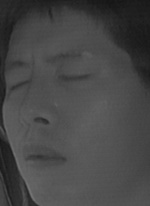blink: (55, 66, 95, 90), (5, 75, 31, 96)
mouth: (16, 138, 70, 175)
